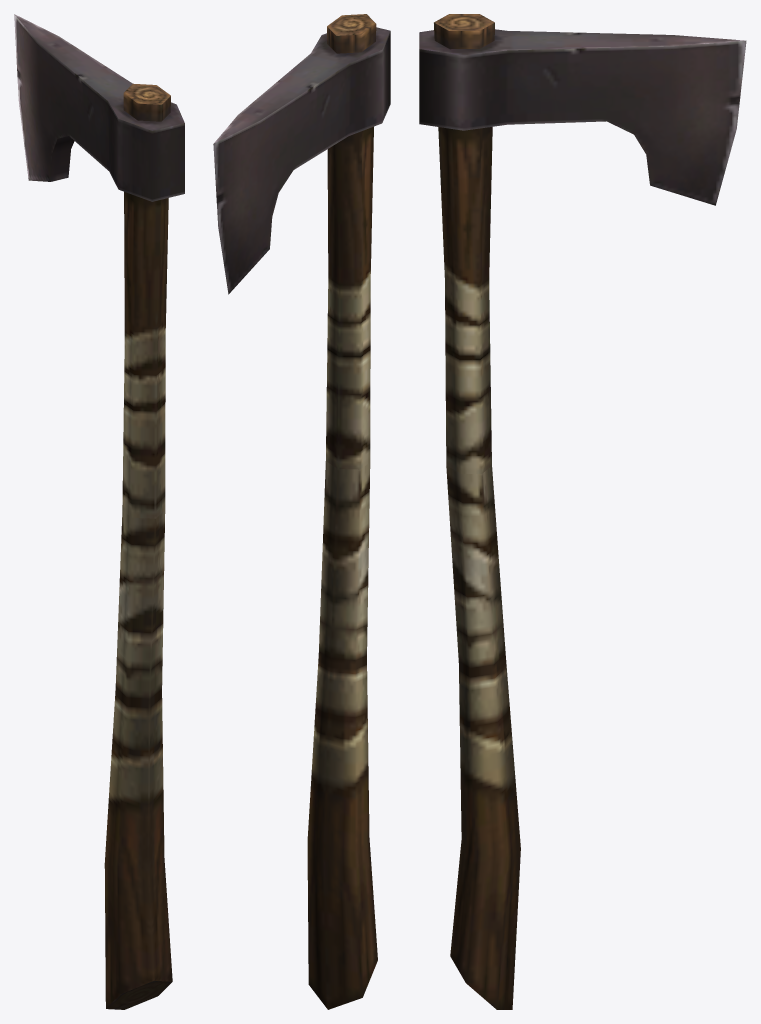
File: greataxe13_6160bd18.glb
The picture shows the model from 3 angles, left to right: view 1: azimuth 30°, elevation 25°; view 2: azimuth 150°, elevation 25°; view 3: azimuth 270°, elevation 25°; orthographic projection. The views are drawn at different scales.
Bounding box in the file's own units: 0.1194 × 1.82 × 0.5464.
1 material, 1 textured.
